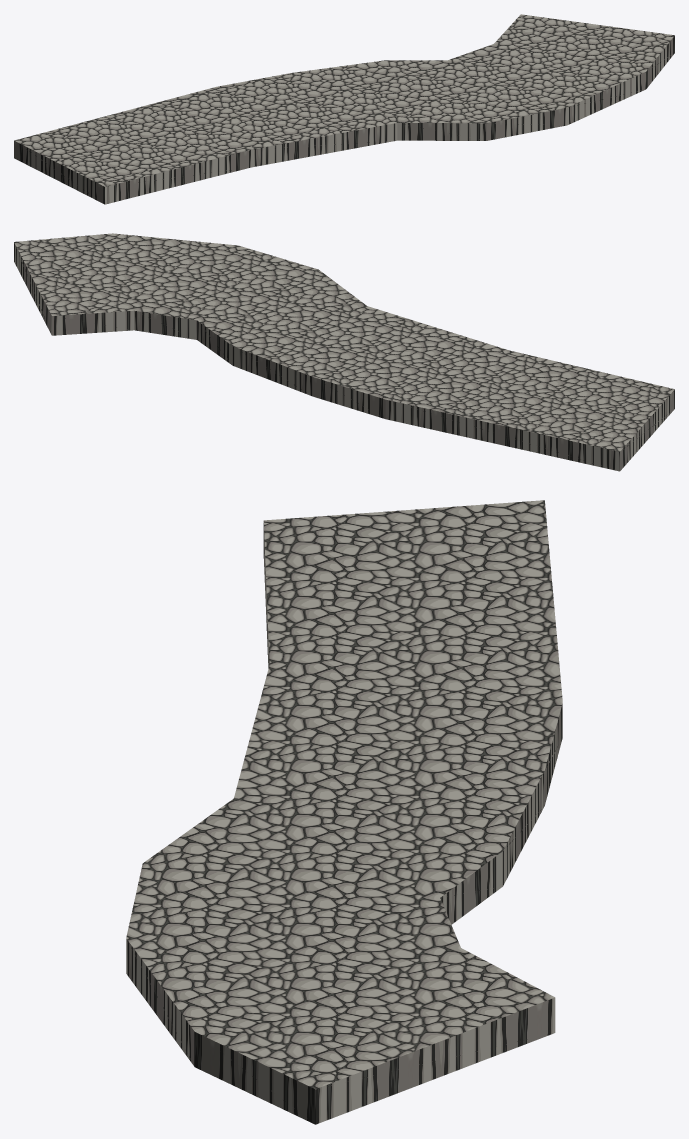
The model's file is sendero.fbx.
3 views of the same model, one above another, from view 1: azimuth 30°, elevation 25°; view 2: azimuth 150°, elevation 25°; view 3: azimuth 270°, elevation 25° (orthographic). The views are drawn at different scales.
Visible parts, largest first — view 1: sendero; view 2: sendero; view 3: sendero.
Part boxes in pixels (x1,y1,x2,y2): sendero: (14, 14, 674, 204); sendero: (14, 233, 674, 471); sendero: (126, 500, 562, 1124).
Bounding box in the file's own units: 238 × 6.68 × 74.55.
Materials: 1 (1 with a texture image).
